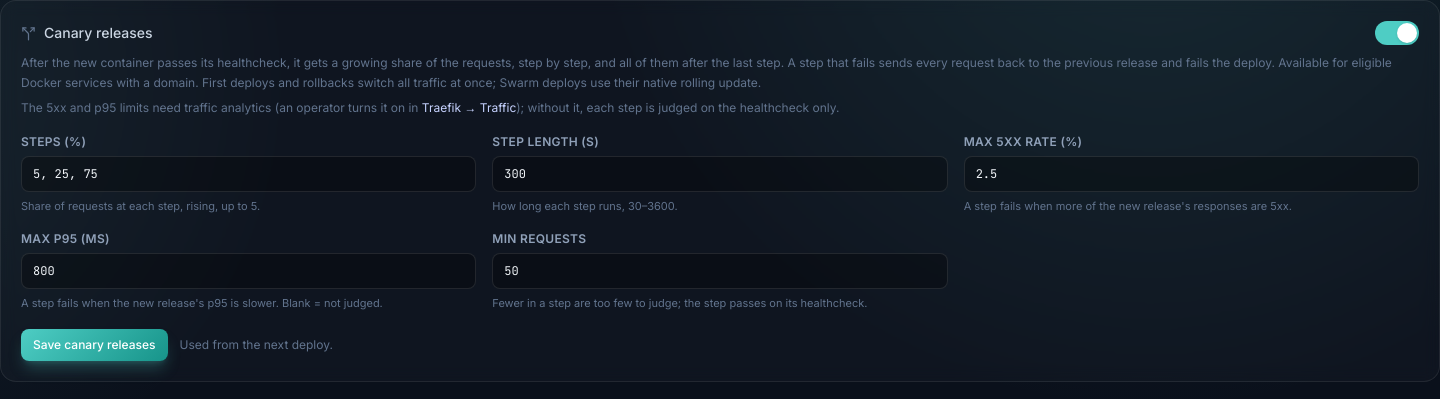
CanaryCard › holds the button while saving
The image size is (1440, 399).
Step 1. Click the button "Save canary releases" → (94, 345), box [21,329,168,361]
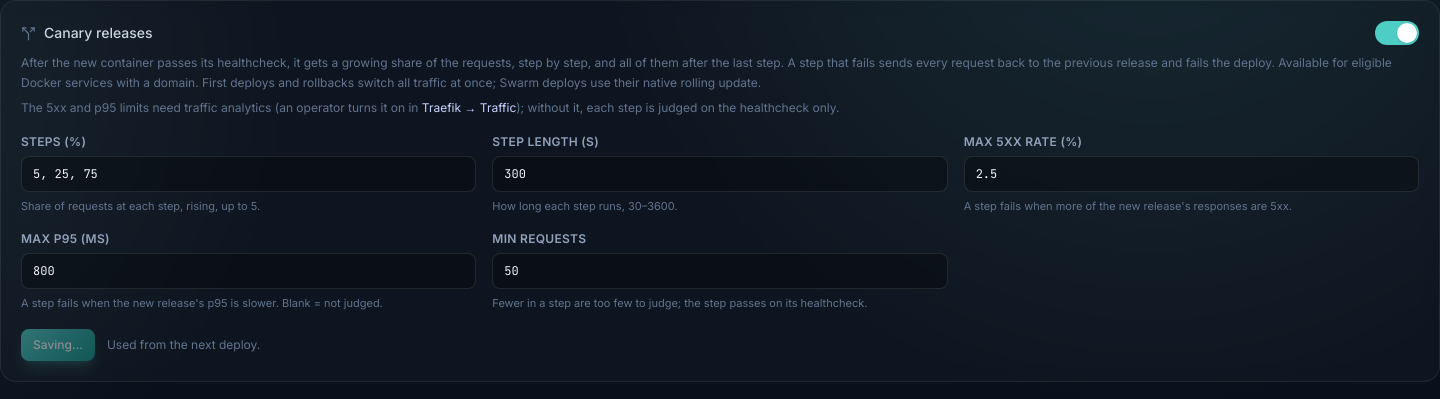
Check: the button "Saving…" is disabled, box [21,329,95,361]
